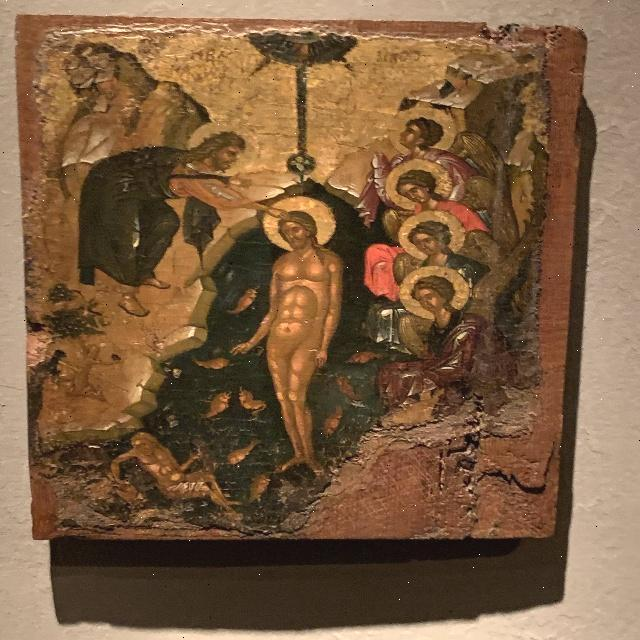aura: (187, 117, 268, 176), (379, 158, 455, 207), (265, 198, 336, 249), (401, 269, 472, 320), (398, 211, 469, 260), (388, 105, 457, 155)
christ_baptism: (256, 192, 344, 476)
saint: (85, 121, 274, 302), (401, 266, 497, 403)
wing: (470, 176, 525, 240), (471, 264, 521, 330), (455, 132, 516, 177), (389, 323, 432, 354), (377, 209, 407, 239)
